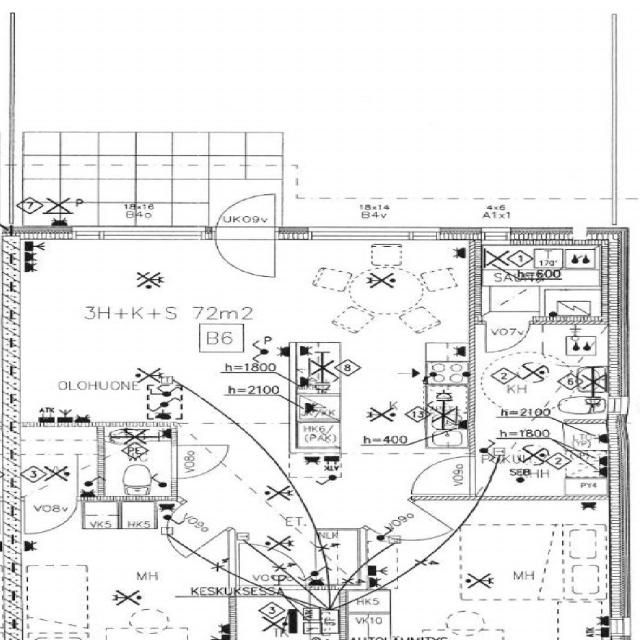door: (144, 501, 229, 556), (366, 500, 452, 554), (241, 543, 306, 589), (216, 227, 274, 277), (216, 190, 274, 240), (409, 456, 476, 494), (25, 496, 77, 534), (171, 445, 229, 479), (486, 316, 530, 352)
